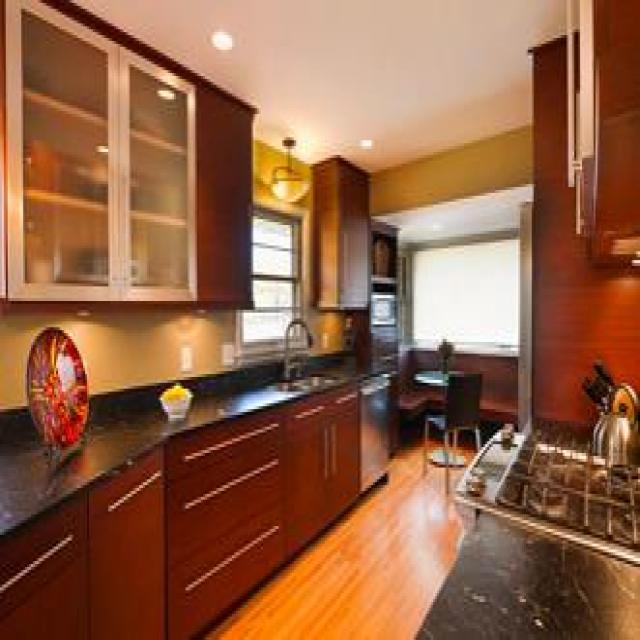dishwasher: (356, 368, 386, 491)
